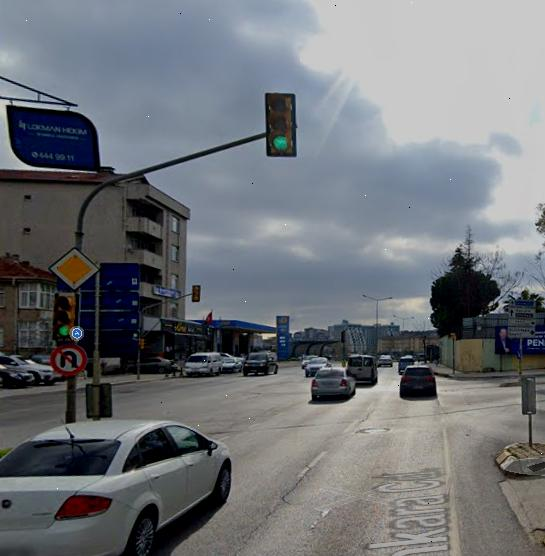greenlight: (266, 91, 296, 157), (54, 292, 77, 344)
